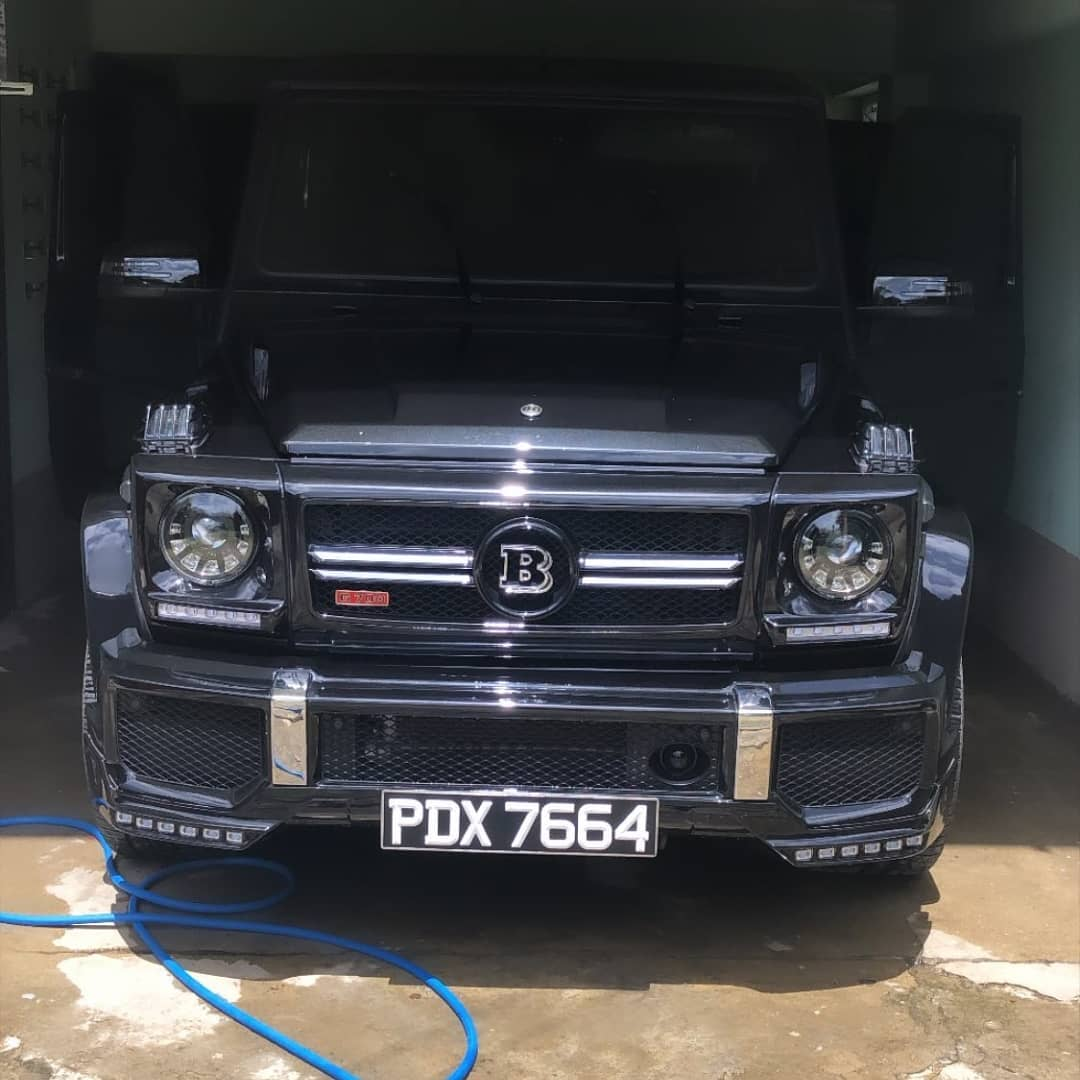License-Plate: (383, 789, 657, 847)
